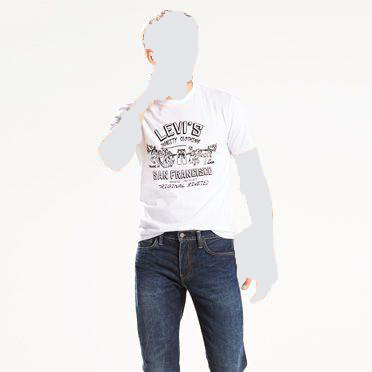teeshirt: (104, 79, 265, 244)
